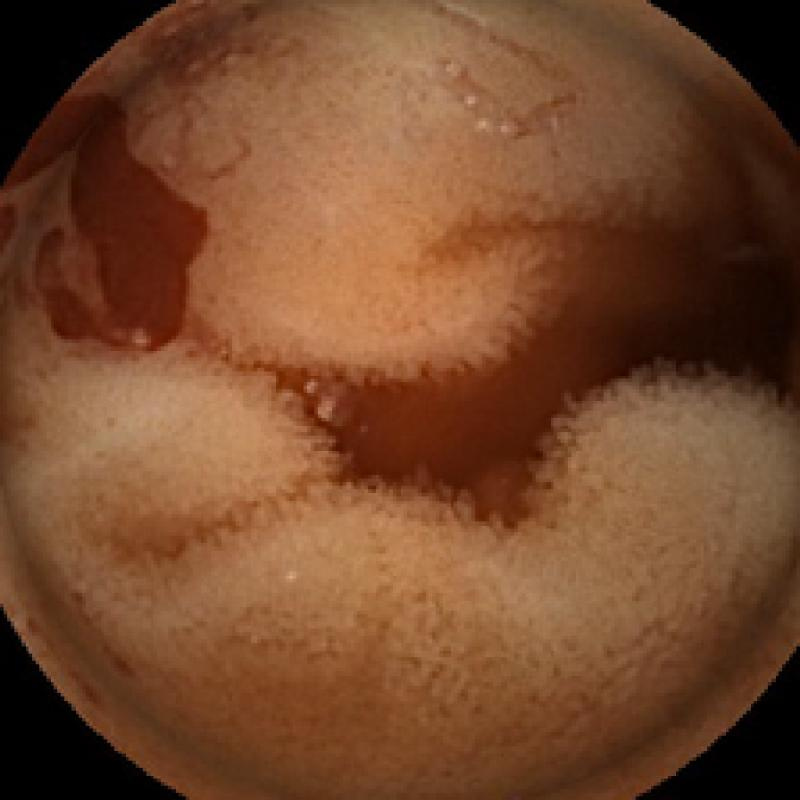bleeding: (0, 97, 211, 357)
